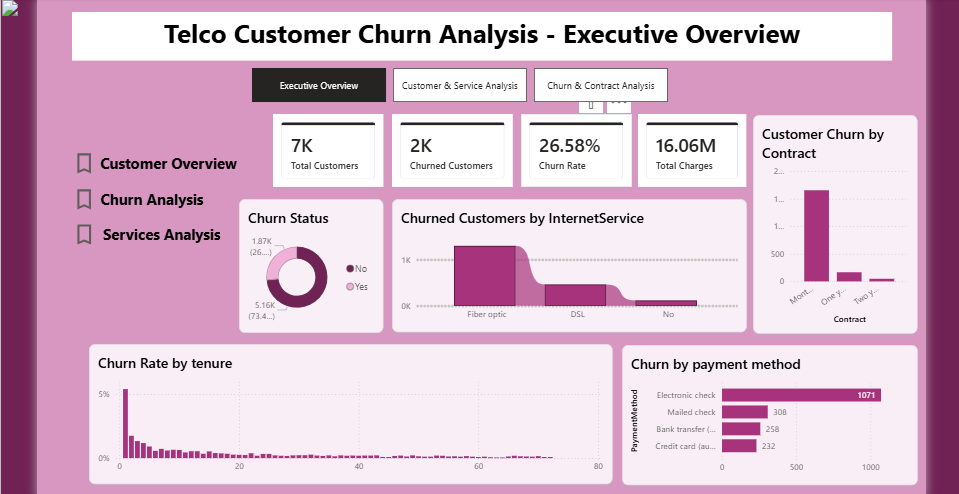

The dashboard page shown, as its layout file describes it:
{"tool":"powerbi","page":{"name":"Executive Overview","canvas":[1280,720],"ordinal":0},"visuals":[{"type":"cardVisual","fields":{"Data":["Dim_Customer.Total Customers"]},"box":[339.5,166.8,159.5,105.4],"z":0},{"type":"cardVisual","fields":{"Data":["Fact_Churn.Churned Customers"]},"box":[510.7,166.8,174.1,105.4],"z":1000},{"type":"cardVisual","fields":{"Data":["Fact_Churn.Churn Rate"]},"box":[696.6,166.8,159.5,105.4],"z":2000},{"type":"cardVisual","fields":{"Data":["Fact_Churn.Total Charges"]},"box":[864.9,166.8,156.6,105.4],"z":3000},{"type":"donutChart","title":"Churn Status","fields":{"Category":["Fact_Churn.Churn"],"Y":["CountNonNull(Fact_Churn.customerID)"]},"box":[291.2,289.8,207.8,193.2],"z":4000},{"type":"columnChart","title":"Customer Churn by Contract","fields":{"Category":["Fact_Churn.Contract","Dim_Account.PaymentMethod"],"Y":["Fact_Churn.Churned Customers"]},"box":[1031.7,168.3,237.1,314.6],"z":5000},{"type":"textbox","box":[49.8,20.5,1181,70.2],"z":6000},{"type":"pageNavigator","box":[310.2,101,600,49.8],"z":7000},{"type":"clusteredBarChart","title":"Churn by payment method","fields":{"Category":["Fact_Churn.PaymentMethod"],"Y":["Fact_Churn.Churned Customers"]},"box":[842.9,499,425.9,202],"z":8000},{"type":"actionButton","title":"Overview Button","box":[48.3,219.5,242.9,38],"z":13000},{"type":"actionButton","title":"Churn Analysis button","box":[48.3,270.7,194.6,38],"z":14000},{"type":"columnChart","fields":{"Y":["Fact_Churn.Churned Customers"],"Category":["Fact_Churn.InternetService"]},"box":[511.1,289.7,511.1,191.7],"z":15000},{"type":"actionButton","title":" Service Analysis","box":[49,321.6,219.4,38.3],"z":17000},{"type":"clusteredColumnChart","fields":{"Category":["Dim_Account.tenure"],"Y":["Fact_Churn.Churn Rate"]},"box":[74.5,498.4,753.9,202.3],"z":20000}]}

Visuals, with their boxes on the page's 1280x720 design canvas (x1, y1, x2, y2). These are canvas units, not pixel positions in the 959x494 screenshot, which may show the page scaled, cropped or inside an application window:
cardVisual - Dim_Customer.Total Customers: locate(340, 167, 499, 272)
cardVisual - Fact_Churn.Churned Customers: locate(511, 167, 685, 272)
cardVisual - Fact_Churn.Churn Rate: locate(697, 167, 856, 272)
cardVisual - Fact_Churn.Total Charges: locate(865, 167, 1022, 272)
"Churn Status" donutChart: locate(291, 290, 499, 483)
"Customer Churn by Contract" columnChart: locate(1032, 168, 1269, 483)
textbox: locate(50, 20, 1231, 91)
pageNavigator: locate(310, 101, 910, 151)
"Churn by payment method" clusteredBarChart: locate(843, 499, 1269, 701)
"Overview Button" actionButton: locate(48, 220, 291, 258)
"Churn Analysis button" actionButton: locate(48, 271, 243, 309)
columnChart - Fact_Churn.Churned Customers x Fact_Churn.InternetService: locate(511, 290, 1022, 481)
" Service Analysis" actionButton: locate(49, 322, 268, 360)
clusteredColumnChart - Dim_Account.tenure x Fact_Churn.Churn Rate: locate(74, 498, 828, 701)
